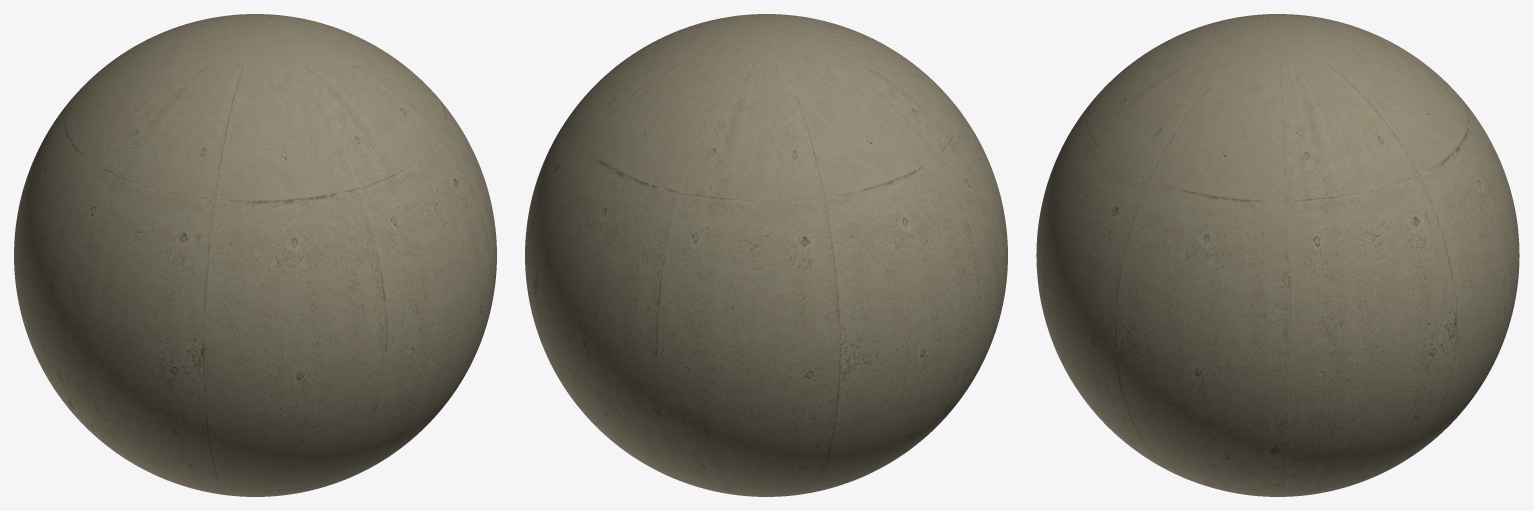
Rendered from concrete_wall_008_2k.gltf.
3 views of the same model, side by side, from view 1: azimuth 30°, elevation 25°; view 2: azimuth 150°, elevation 25°; view 3: azimuth 270°, elevation 25° (orthographic).
Parts seen in each view (by area): view 1: sphere_gltf; view 2: sphere_gltf; view 3: sphere_gltf.
Part boxes in pixels (box(x1,y1,x2,y2)): sphere_gltf: box(14, 14, 496, 496); sphere_gltf: box(525, 14, 1007, 496); sphere_gltf: box(1036, 14, 1519, 496).
Bounding box in the file's own units: 2.71 × 2.71 × 2.71.
Materials: 1 (1 with a texture image).
